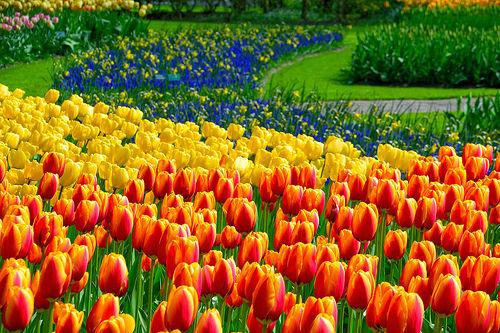tulip: (164, 236, 203, 278), (38, 252, 72, 299), (98, 251, 130, 300), (2, 286, 35, 332), (163, 286, 196, 330), (390, 289, 423, 333), (254, 273, 284, 321), (1, 215, 30, 261), (304, 295, 339, 333), (460, 289, 490, 333), (87, 293, 117, 333), (202, 261, 238, 293), (317, 262, 347, 300), (432, 274, 459, 315), (348, 270, 375, 309), (238, 233, 268, 268), (288, 243, 317, 279), (373, 177, 401, 211), (353, 205, 378, 240), (111, 204, 133, 240), (171, 167, 197, 196), (416, 196, 436, 231), (232, 201, 256, 230), (76, 201, 99, 231), (385, 229, 407, 260), (394, 198, 417, 227), (282, 184, 305, 212), (459, 229, 483, 255), (44, 149, 64, 177), (37, 173, 58, 198), (124, 177, 145, 201), (453, 199, 473, 223), (207, 167, 228, 189), (466, 155, 487, 176), (111, 162, 128, 187), (46, 90, 62, 105), (200, 121, 213, 138), (65, 103, 78, 118)
